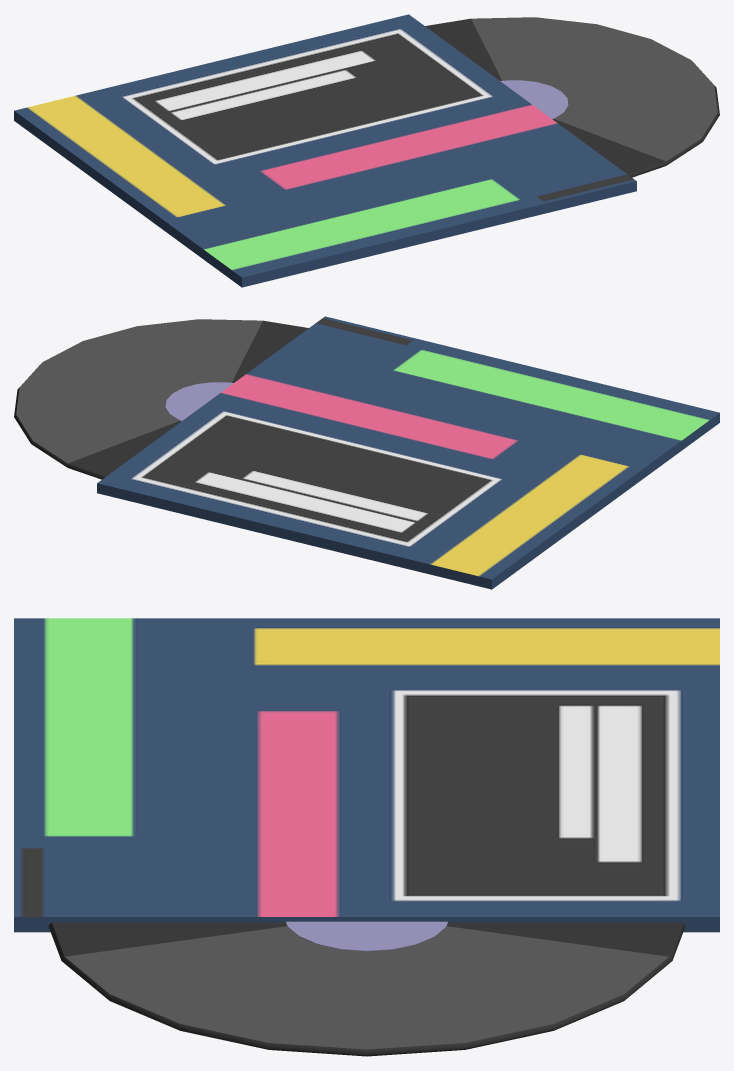
File: vinyl_record_with_custom_album.glb
3 renders of one model, top to bottom at view 1: azimuth 30°, elevation 25°; view 2: azimuth 150°, elevation 25°; view 3: azimuth 270°, elevation 25°, orthographic. The views are drawn at different scales.
Visible parts, largest first — view 1: pCube1, pCylinder3; view 2: pCube1, pCylinder3; view 3: pCube1, pCylinder3.
Boxes of the visible parts, left/top/right/bottom form: pCube1: left=14, top=14, right=636, bottom=287; pCylinder3: left=425, top=17, right=719, bottom=177; pCube1: left=97, top=316, right=719, bottom=589; pCylinder3: left=14, top=319, right=308, bottom=479; pCube1: left=14, top=618, right=719, bottom=932; pCylinder3: left=48, top=921, right=685, bottom=1056.
Size of the model in its own units: 1.43 by 0.0244 by 1.
Materials: 5 (1 with a texture image).
